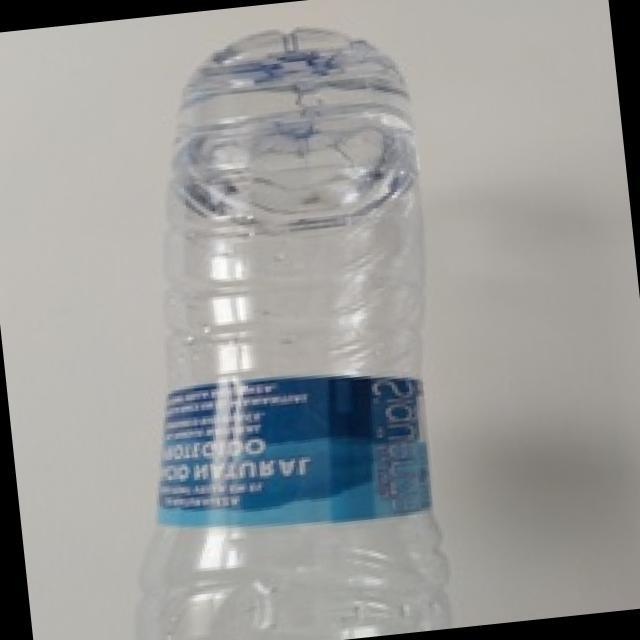good: (93, 0, 489, 640)
